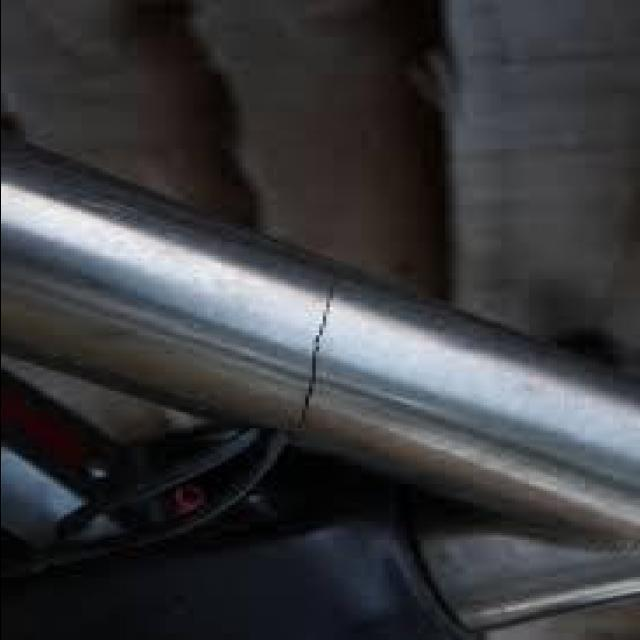Crack: (291, 278, 341, 435)
